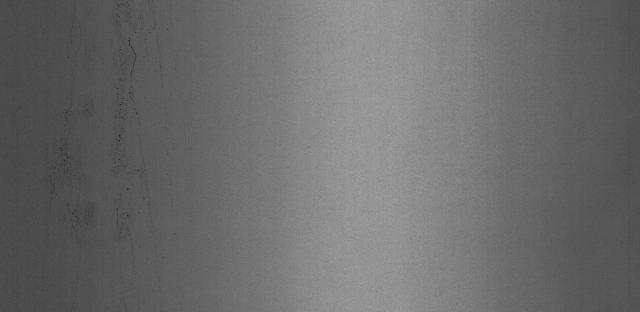inclusion: (47, 32, 94, 245)
water_spot: (104, 7, 165, 239)
